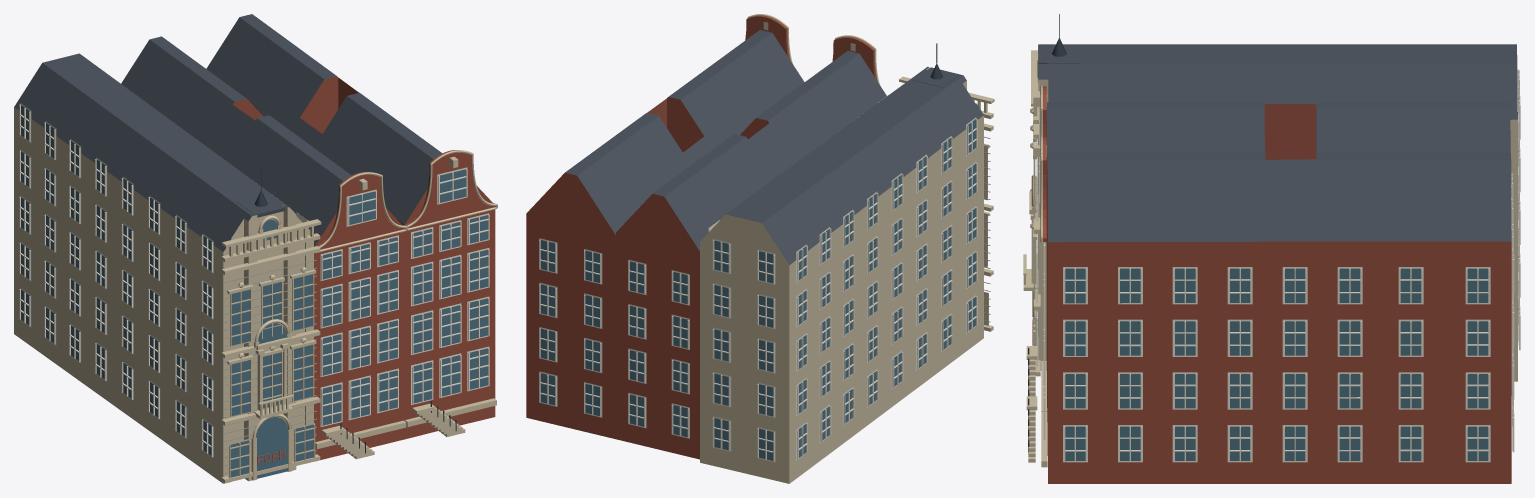
Rendered from foam.glb.
3 views of the same model, side by side, from view 1: azimuth 30°, elevation 25°; view 2: azimuth 150°, elevation 25°; view 3: azimuth 270°, elevation 25° (orthographic). The views are drawn at different scales.
Parts seen in each view (by area): view 1: foam; view 2: foam; view 3: foam.
Boxes of the visible parts, bbox=[...] form: foam: bbox=[14, 14, 497, 483]; foam: bbox=[526, 14, 994, 483]; foam: bbox=[1023, 14, 1520, 483].
Bounding box in the file's own units: 22.88 × 23.4 × 30.8.
